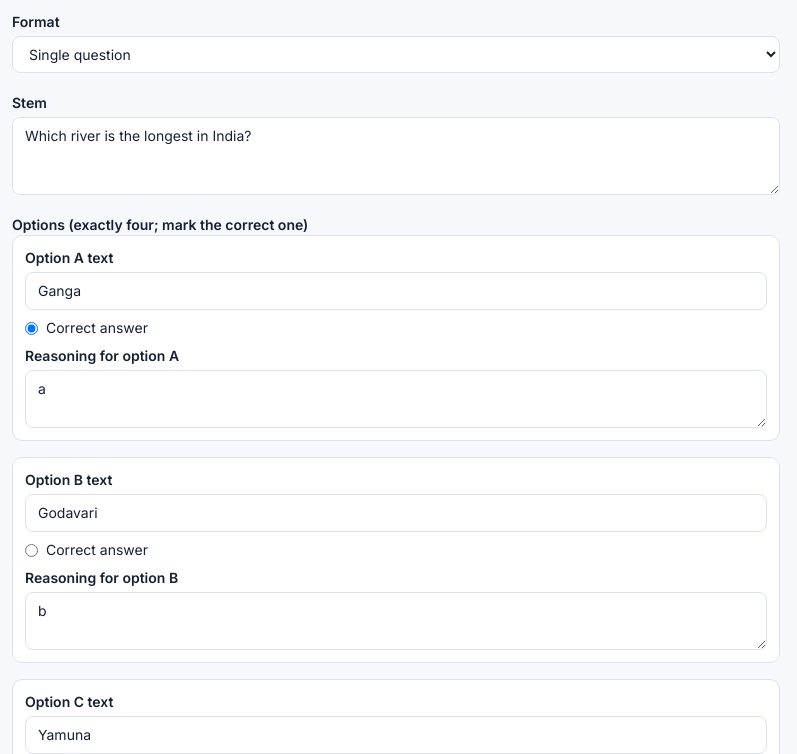
QuestionForm saving edits › sends only the changed fields
The image size is (797, 754).
Replace the text in the text box labelled "Stem" with "New stem" at (396, 156), box 12,117 -> 780,195
(page scrolled)
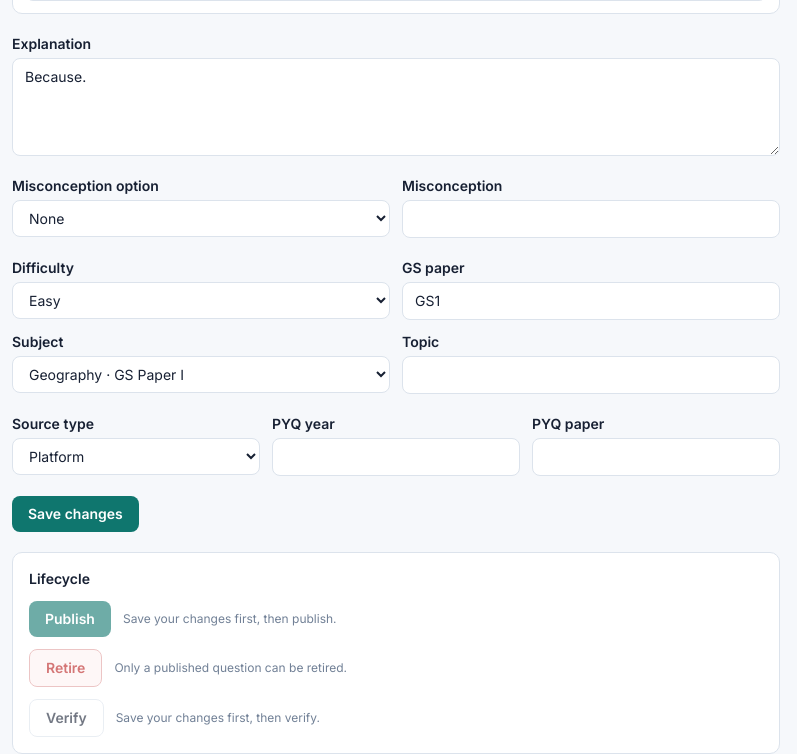
Click the button "Save changes".
click(75, 514)  # box 12,496 -> 139,532
(page scrolled)
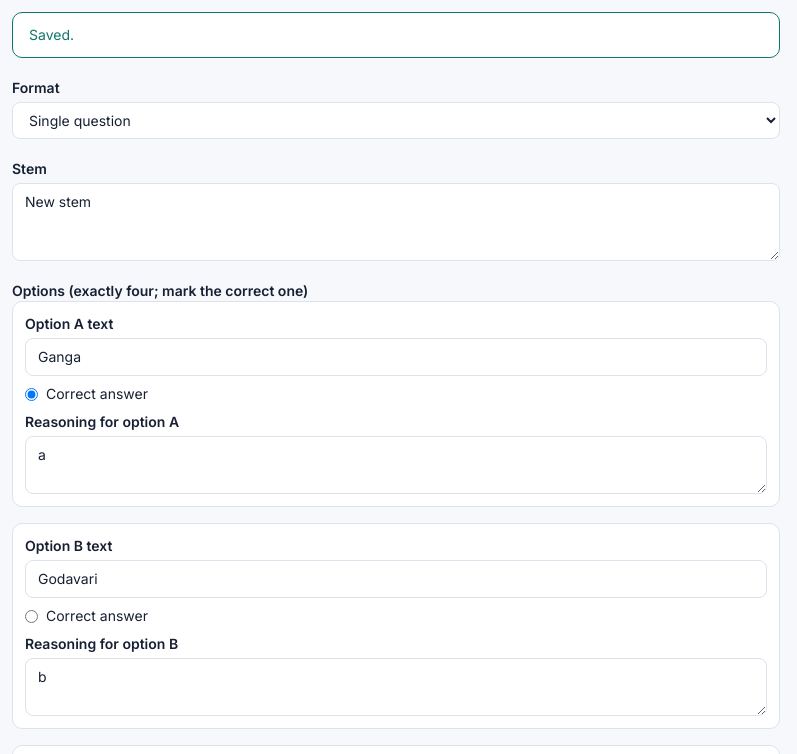
expect the text "Saved." is shown: met, box 12,12 -> 780,58
